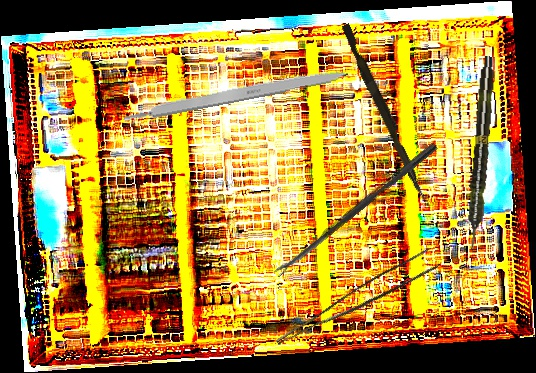Handpiece: (463, 55, 498, 250)
Pusher: (337, 23, 433, 202)
Scalpel Handle: (121, 64, 350, 124)
Surgical Spoon: (273, 141, 438, 278)
Tissue Forceps: (275, 243, 440, 363)
